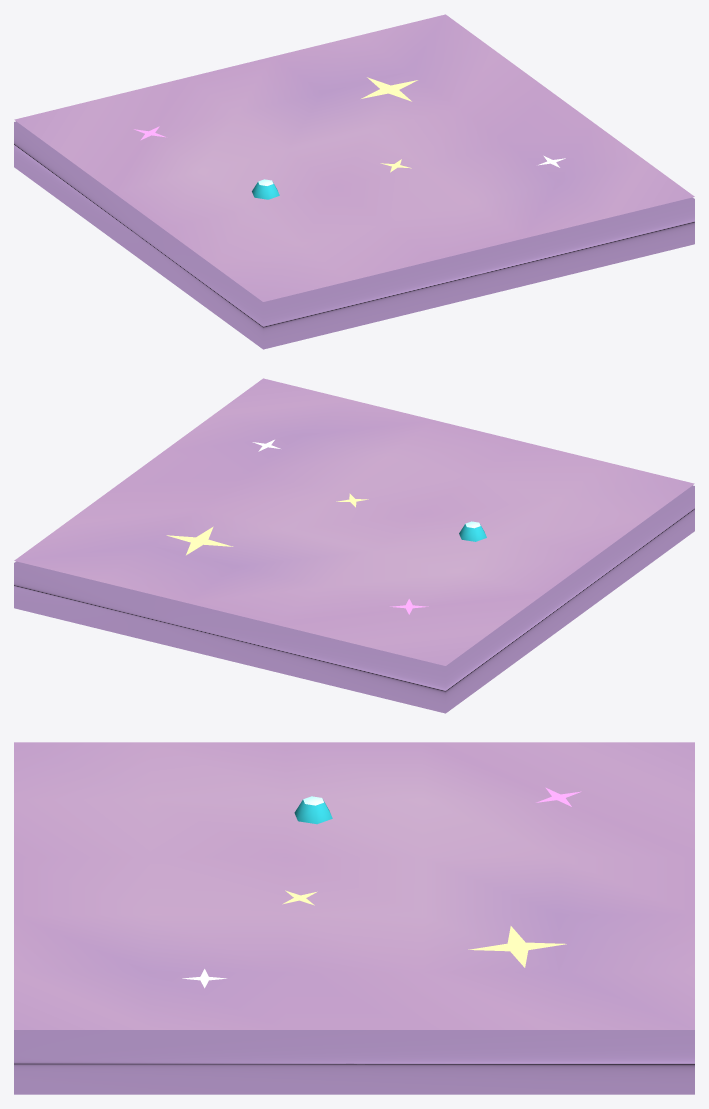
Rendered from tile_glitter_sand_b.glb.
3 views of the same model, one above another, from view 1: azimuth 30°, elevation 25°; view 2: azimuth 150°, elevation 25°; view 3: azimuth 270°, elevation 25° (orthographic). The views are drawn at different scales.
Parts seen in each view (by area): view 1: Tile.001; view 2: Tile.001; view 3: Tile.001, Gem.
Part boxes in pixels (x1=…): Tile.001: x1=14, y1=14, x2=694, y2=349; Tile.001: x1=14, y1=378, x2=694, y2=713; Tile.001: x1=14, y1=742, x2=694, y2=1094; Gem: x1=294, y1=796, x2=332, y2=824.
Size of the model in its own units: 1 by 0.131 by 1.
